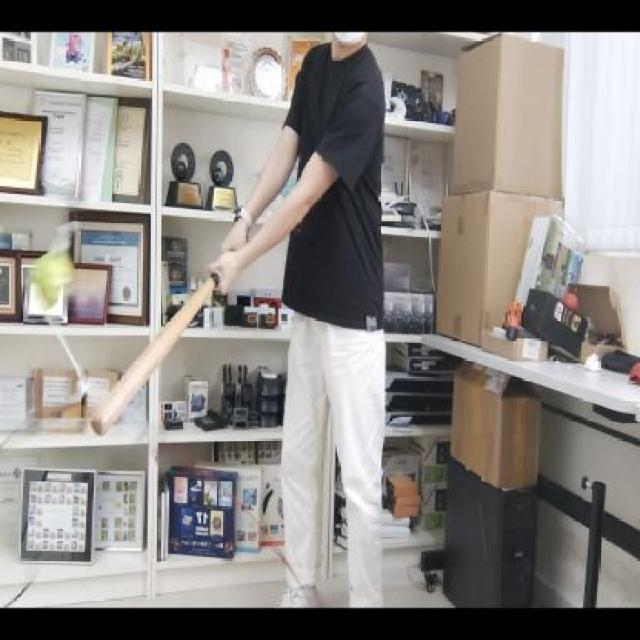baseball: (36, 250, 73, 305)
